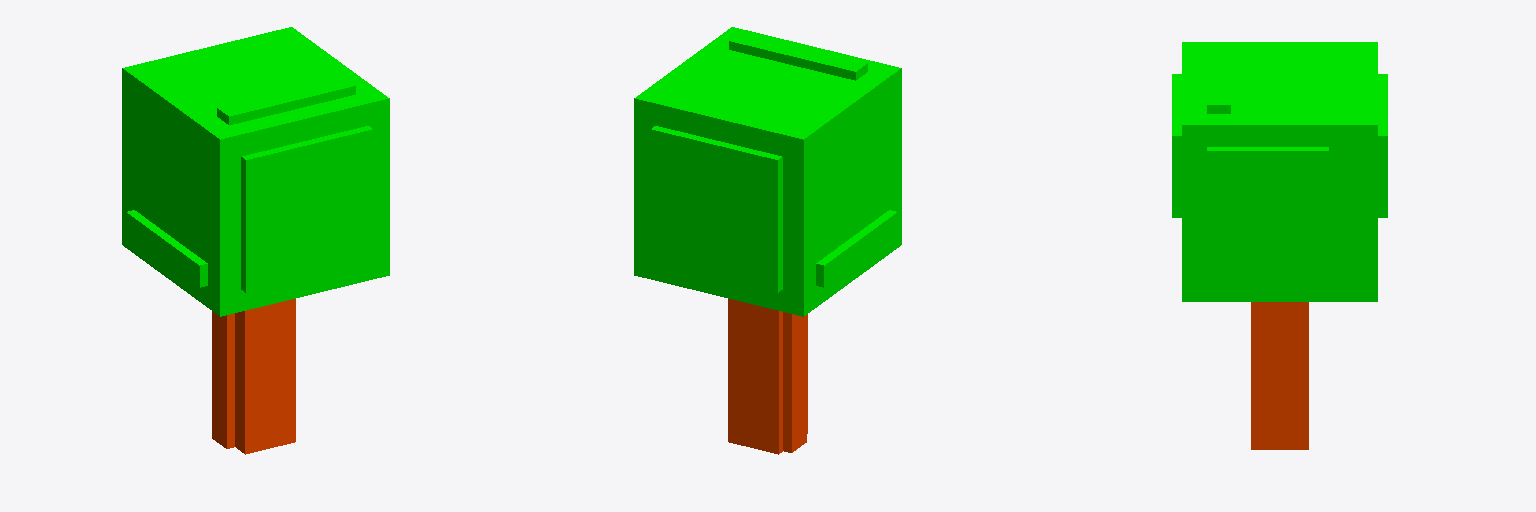
File: tron-tree.obj
The picture shows the model from 3 angles: view 1: azimuth 30°, elevation 25°; view 2: azimuth 150°, elevation 25°; view 3: azimuth 270°, elevation 25°; orthographic projection.
Visible parts, largest first — view 1: Dark-Green_Cube.001, Neon-Green_Cube, Dark-Orange_Cube.008, Neon-Orange_Cube.009; view 2: Dark-Green_Cube.001, Neon-Green_Cube, Dark-Orange_Cube.008, Neon-Orange_Cube.009; view 3: Dark-Green_Cube.001, Neon-Green_Cube, Dark-Orange_Cube.008.
Part boxes in pixels (left/top/right/bottom): Dark-Green_Cube.001: left=122, top=27, right=389, bottom=316; Neon-Green_Cube: left=126, top=77, right=372, bottom=292; Dark-Orange_Cube.008: left=235, top=299, right=295, bottom=454; Neon-Orange_Cube.009: left=212, top=311, right=234, bottom=448; Dark-Green_Cube.001: left=634, top=27, right=901, bottom=316; Neon-Green_Cube: left=651, top=32, right=897, bottom=292; Dark-Orange_Cube.008: left=728, top=299, right=807, bottom=454; Neon-Orange_Cube.009: left=783, top=312, right=806, bottom=452; Dark-Green_Cube.001: left=1182, top=42, right=1377, bottom=301; Neon-Green_Cube: left=1172, top=43, right=1387, bottom=283; Dark-Orange_Cube.008: left=1251, top=302, right=1308, bottom=449.
Bounding box in the file's own units: 2.2 × 4.1 × 2.2.